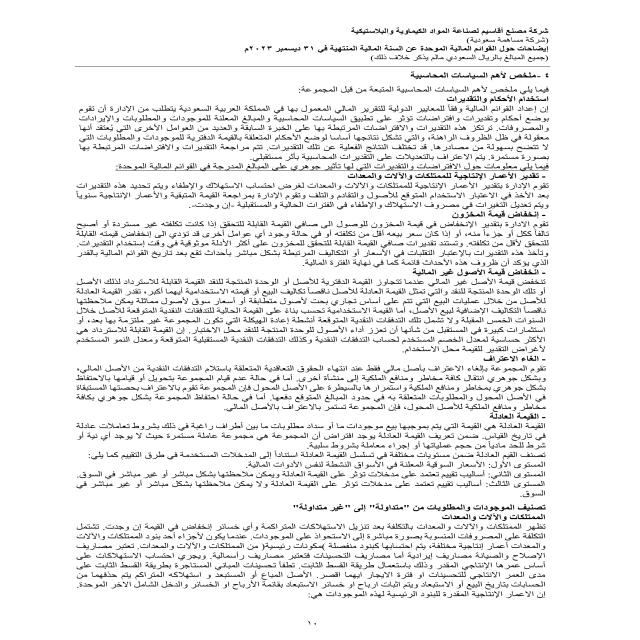notes: (239, 42, 560, 54)
text: (48, 73, 554, 609)
